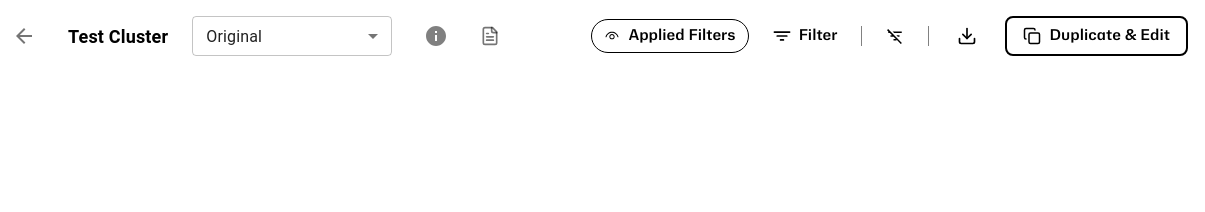
Scenario: PlanogramBar › toggles show all filters popper
The image size is (1205, 212).
Click the button "Applied Filters" at point(670, 36), box [591, 19, 749, 53]
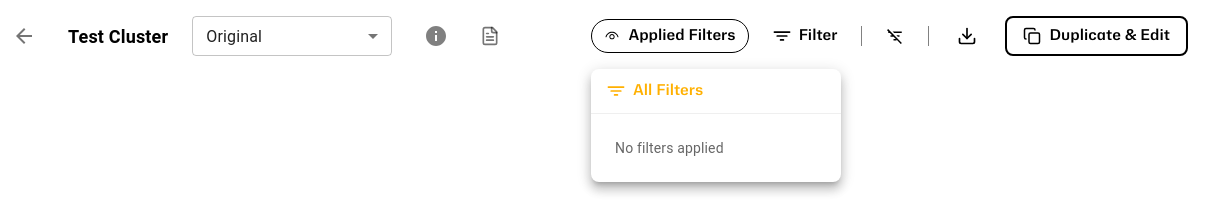
Result: the text "All Filters" is shown at [633, 81, 703, 101]
